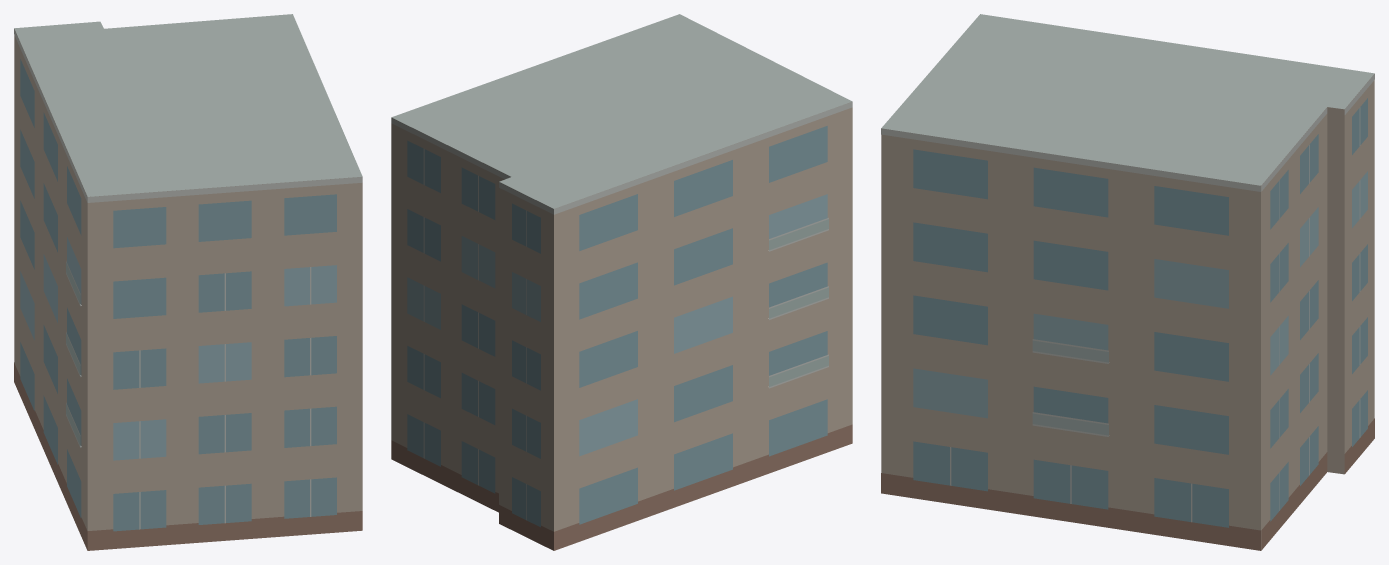
The model's file is survey-upis-32853515.glb.
3 renders of one model, left to right at view 1: azimuth 30°, elevation 25°; view 2: azimuth 150°, elevation 25°; view 3: azimuth 270°, elevation 25°, orthographic. The views are drawn at different scales.
Parts seen in each view (by area): view 1: survey-upis-32853515.tmp; view 2: survey-upis-32853515.tmp; view 3: survey-upis-32853515.tmp.
Part boxes in pixels (x1,y1,x2,y2): survey-upis-32853515.tmp: [14, 14, 362, 550]; survey-upis-32853515.tmp: [391, 14, 852, 550]; survey-upis-32853515.tmp: [881, 14, 1374, 550].
Bounding box in the file's own units: 14.44 × 14.3 × 17.53.
